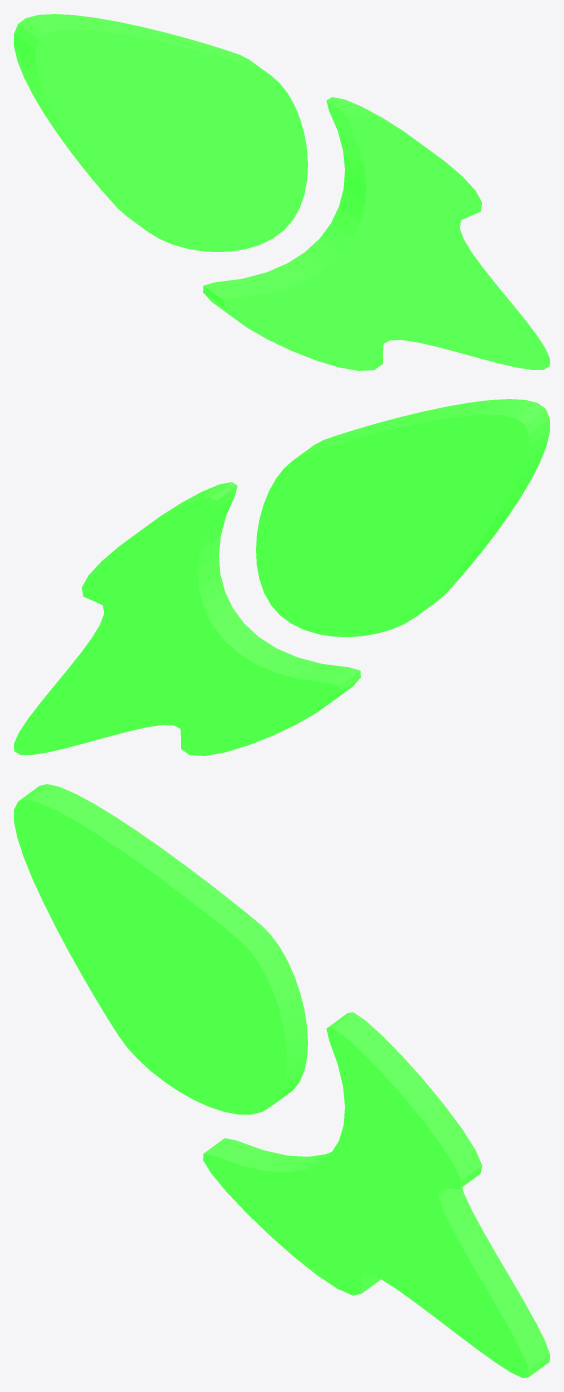
The model's file is boost icon.fbx.
The picture shows the model from 3 angles, top to bottom: view 1: azimuth 30°, elevation 25°; view 2: azimuth 150°, elevation 25°; view 3: azimuth 330°, elevation 25°; orthographic projection.
Parts seen in each view (by area): view 1: Curve.001; view 2: Curve.001; view 3: Curve.001.
Boxes of the visible parts, left/top/right/bottom form: Curve.001: left=14, top=14, right=549, bottom=370; Curve.001: left=14, top=399, right=549, bottom=755; Curve.001: left=14, top=784, right=549, bottom=1377.
Bounding box in the file's own units: 167 × 142 × 11.94.
